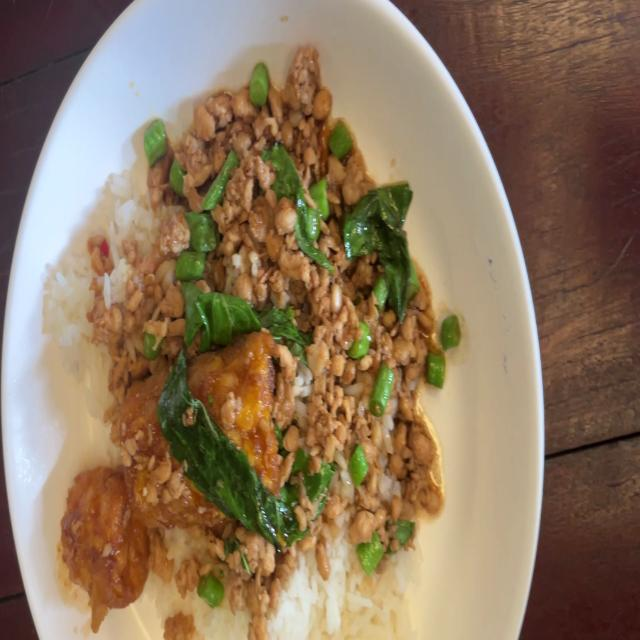01rice: (281, 560, 404, 640), (110, 178, 152, 298), (49, 239, 93, 316), (78, 347, 109, 415)
fried_tofo: (125, 349, 288, 508), (66, 466, 142, 610)
minced_pork: (153, 49, 438, 348), (290, 333, 456, 555)
stir_fried_basil: (51, 43, 459, 640)
